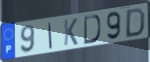9: (19, 24, 36, 55), (106, 10, 122, 41)
D: (124, 7, 147, 39), (83, 14, 102, 46)
I: (48, 22, 54, 50)
K: (63, 17, 79, 47)
